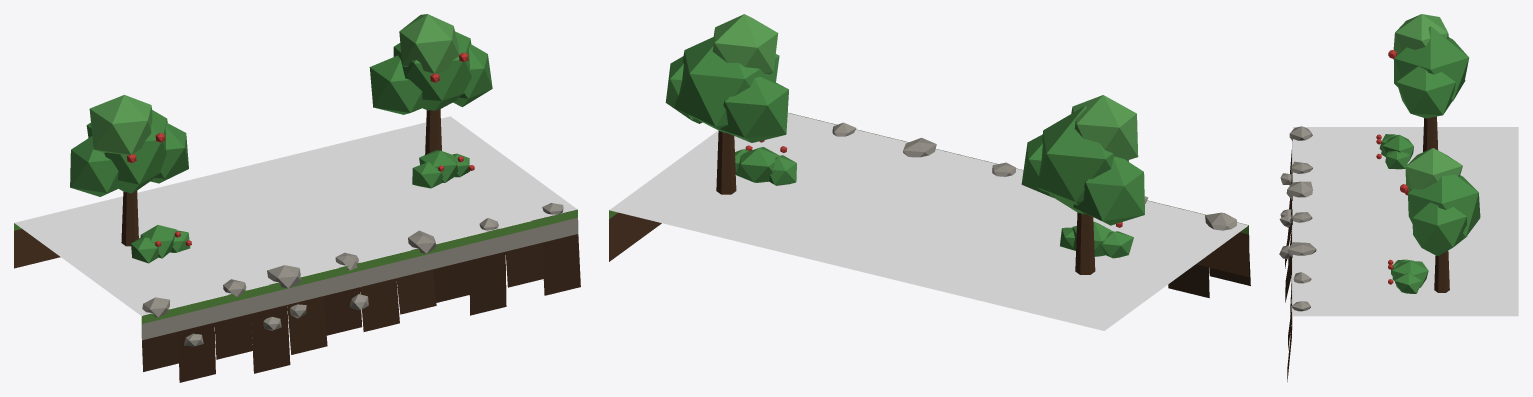
The model's file is rEnd.glb.
3 views of the same model, side by side, from view 1: azimuth 30°, elevation 25°; view 2: azimuth 150°, elevation 25°; view 3: azimuth 270°, elevation 25° (orthographic). The views are drawn at different scales.
Visible parts, largest first — view 1: rEnd; view 2: rEnd; view 3: rEnd.
Part boxes in pixels (left/top/right/bottom): rEnd: left=14, top=14, right=580, bottom=382; rEnd: left=609, top=14, right=1250, bottom=330; rEnd: left=1279, top=14, right=1518, bottom=381.
Size of the model in its own units: 2 by 1.04 by 1.07.
